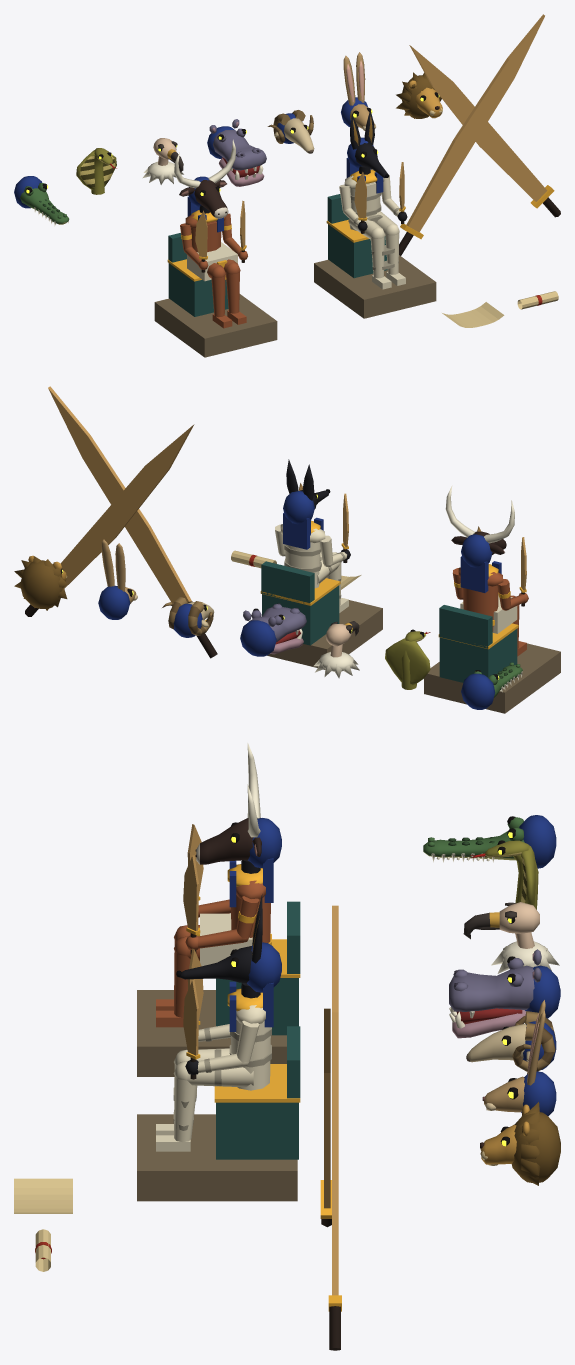
File: guardian.glb
The picture shows the model from 3 angles, top to bottom: view 1: azimuth 30°, elevation 25°; view 2: azimuth 150°, elevation 25°; view 3: azimuth 270°, elevation 25°; orthographic projection. The views are drawn at different scales.
Visible parts, largest first — view 1: great_knife, plinth_again, plinth, great_knife_again, seat, seat_again, head_hippopotamus, head_bull, head_lion, head_hare, head_crocodile, head_jackal (+17 smaller); view 2: seat_again, great_knife, great_knife_again, seat, plinth_again, head_hippopotamus, plinth, head_lion, head_bull, head_hare, head_snake, head_crocodile (+11 smaller); view 3: plinth, seat, head_hippopotamus, plinth_again, head_lion, head_bull, seat_again, great_knife_again, head_crocodile, head_jackal, head_vulture, head_hare (+16 smaller).
Boxes of the visible parts, x1,y1,x2,y2 form: great_knife: (399,14,544,255); plinth_again: (154,294,277,357); plinth: (314,255,436,318); great_knife_again: (409,45,560,217); seat: (326,194,387,278); seat_again: (167,232,228,316); head_hippopotamus: (207,119,266,186); head_bull: (174,139,235,218); head_lion: (396,72,442,118); head_hare: (341,52,375,130); head_crocodile: (14,176,69,226); head_jackal: (347,109,389,177); seat_again: (438,605,518,682); great_knife: (48,386,217,658); great_knife_again: (25,424,194,616); seat: (260,561,340,645); plinth_again: (424,643,560,713); head_hippopotamus: (240,603,306,656); plinth: (267,600,382,669); head_lion: (14,555,67,610); head_bull: (445,485,514,567); head_hare: (98,539,137,619); head_snake: (385,629,430,689); head_crocodile: (461,662,522,709); plinth: (137,1114,297,1201); seat: (214,1026,300,1159); head_hippopotamus: (449,949,560,1038); plinth_again: (137,990,286,1076); head_lion: (480,1102,560,1185); head_bull: (195,743,281,868); seat_again: (216,901,300,1035); great_knife_again: (328,905,341,1350); head_crocodile: (423,815,556,868); head_jackal: (176,894,281,992); head_vulture: (463,902,559,973); head_hare: (482,1000,556,1116).
Bounding box in the file's own units: 6.67 × 2.74 × 4.09.
